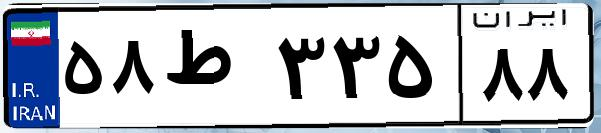3: (270, 28, 330, 110), (330, 28, 385, 110)
5: (385, 28, 445, 110), (57, 26, 110, 100)
8: (475, 38, 525, 113), (525, 38, 570, 115), (110, 28, 158, 98)
ط: (158, 20, 270, 120)
